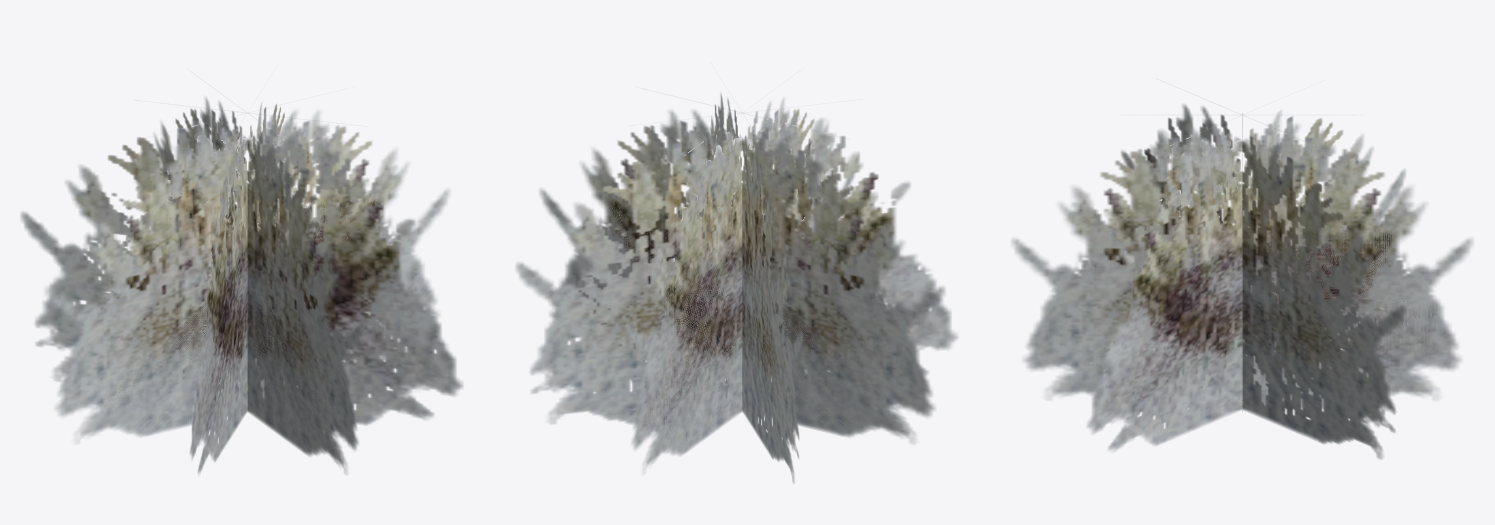
File: Environment - Prop - Dsrt Snw Grn - PMDsrtSnwGrn.glb
3 views of the same model, side by side, from view 1: azimuth 30°, elevation 25°; view 2: azimuth 150°, elevation 25°; view 3: azimuth 270°, elevation 25° (orthographic).
Visible parts, largest first — view 1: PMDSRTSNWGRN; view 2: PMDSRTSNWGRN; view 3: PMDSRTSNWGRN.
Boxes of the visible parts, <box> form: PMDSRTSNWGRN: <box>20,98,463,475</box>; PMDSRTSNWGRN: <box>515,93,958,483</box>; PMDSRTSNWGRN: <box>1011,104,1473,459</box>.
Size of the model in its own units: 12.73 by 8.71 by 12.73.
Materials: 1 (1 with a texture image).
